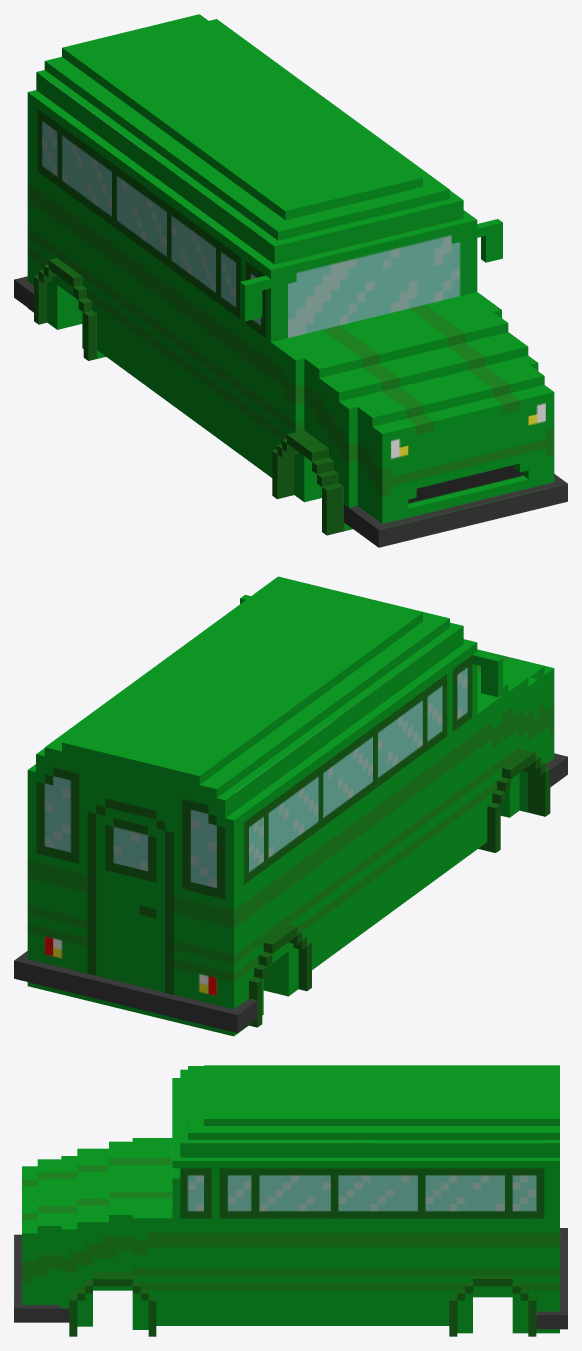
File: School_Bus_2.obj
3 renders of one model, top to bottom at view 1: azimuth 30°, elevation 25°; view 2: azimuth 150°, elevation 25°; view 3: azimuth 270°, elevation 25°, orthographic. The views are drawn at different scales.
Parts seen in each view (by area): view 1: School_Bus_2_School_Bus_2.001; view 2: School_Bus_2_School_Bus_2.001; view 3: School_Bus_2_School_Bus_2.001.
Part boxes in pixels (bbox=[...]): School_Bus_2_School_Bus_2.001: bbox=[14, 14, 567, 547]; School_Bus_2_School_Bus_2.001: bbox=[14, 576, 567, 1036]; School_Bus_2_School_Bus_2.001: bbox=[14, 1065, 567, 1336].
Bounding box in the file's own units: 3 × 2.8 × 7.
